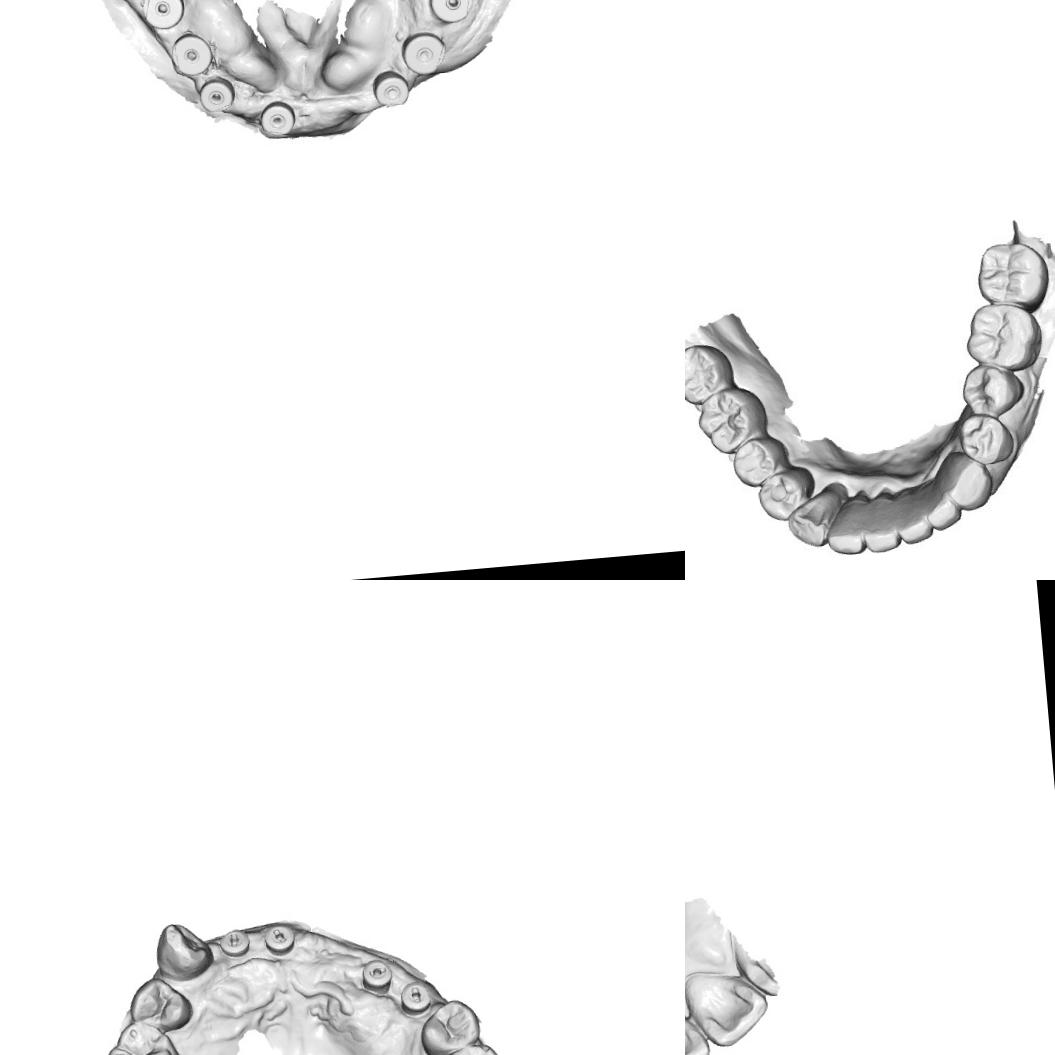canine: (151, 918, 215, 984), (784, 487, 842, 550), (936, 453, 993, 513)
implant: (399, 27, 447, 78), (166, 30, 214, 77), (368, 68, 409, 110), (196, 75, 236, 115), (257, 98, 298, 137), (138, 0, 187, 31), (426, 0, 476, 24)
implant_minus: (358, 956, 395, 998), (397, 978, 432, 1018), (261, 922, 296, 958), (216, 926, 252, 960)
incisor: (685, 965, 772, 1051), (822, 494, 872, 556), (862, 488, 908, 550), (894, 486, 933, 542), (925, 482, 955, 530), (685, 1007, 712, 1055)
molar: (964, 300, 1045, 374), (973, 238, 1052, 310), (694, 384, 774, 454), (685, 336, 738, 405), (99, 1016, 187, 1055)
premolar: (126, 973, 194, 1034), (957, 362, 1029, 418), (754, 464, 818, 526), (417, 996, 483, 1055), (956, 410, 1018, 465), (732, 430, 791, 487)
